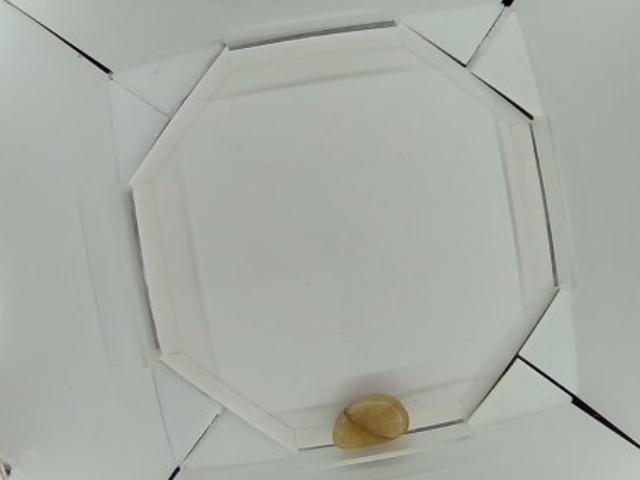Pebble: (332, 397, 415, 454)
